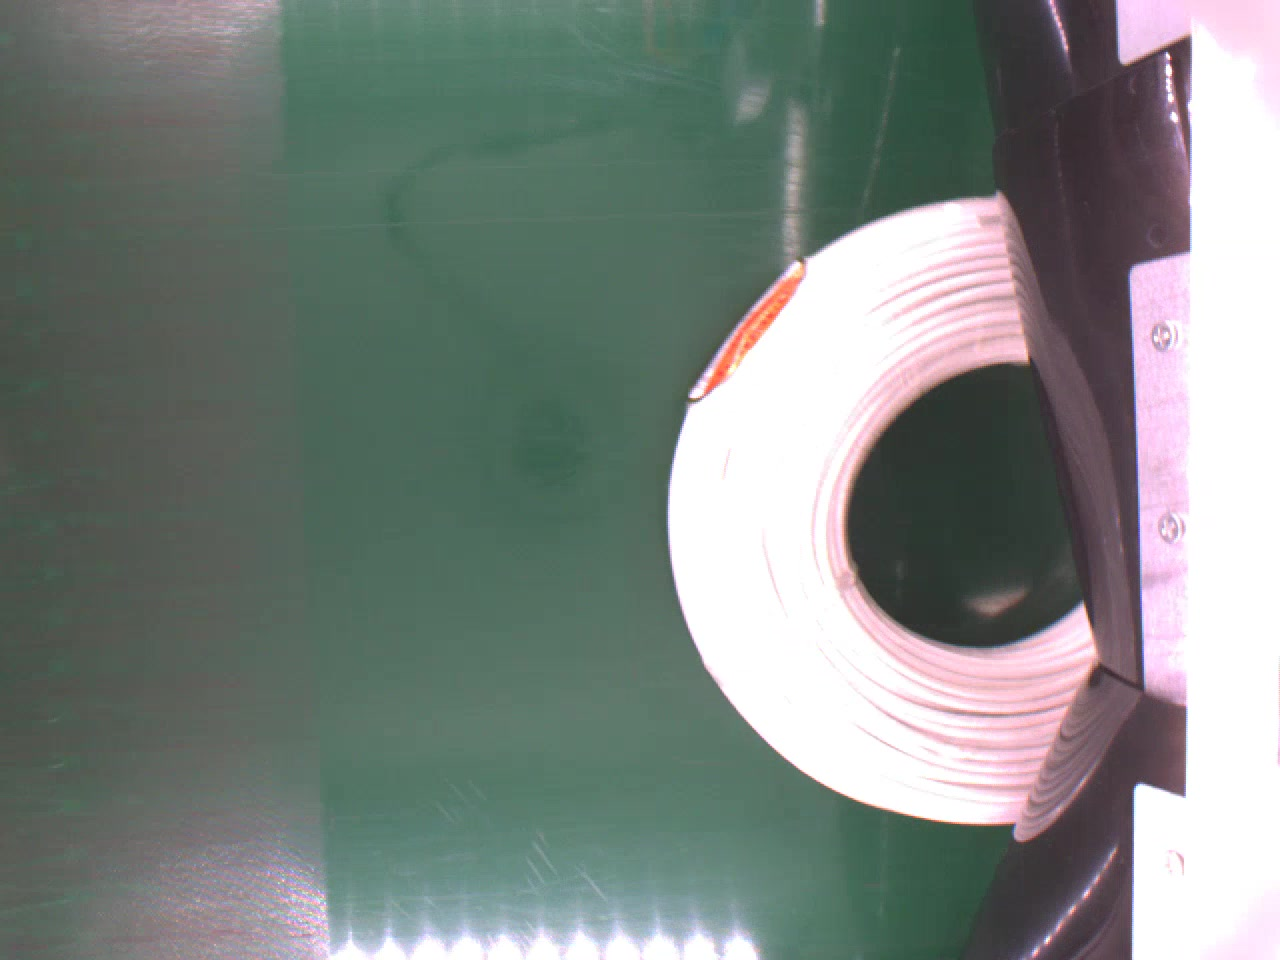white: (663, 195, 1100, 823)
